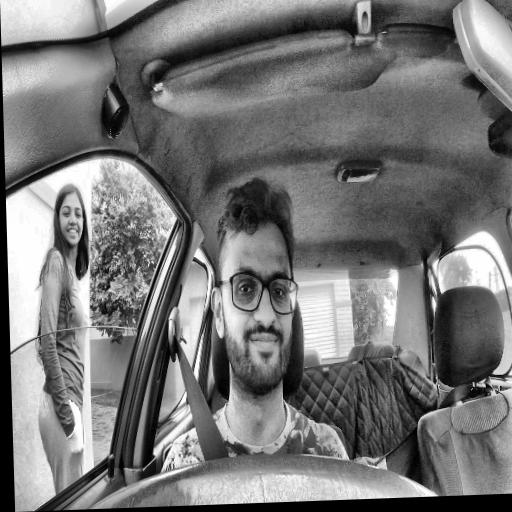awake: (207, 177, 302, 402)
